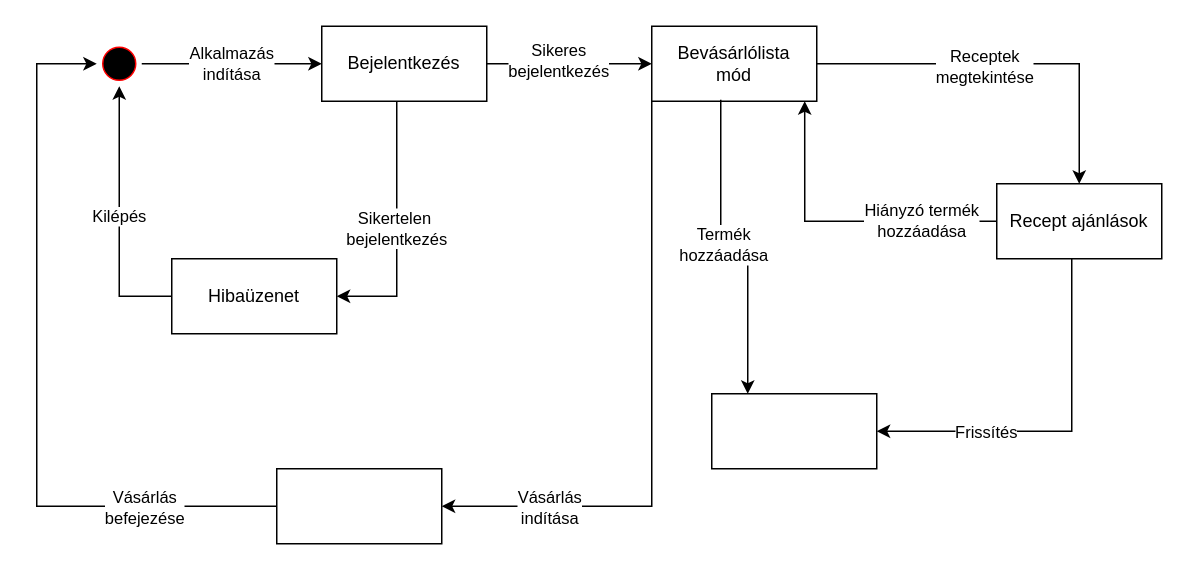
Image size: 1188x570. Some labels were removed from this diagram. The shapes that lost their labels are listed below. From the top down, each one's centre as x and y in pixels, then its label:
pixel 793 430: Készlet kezelése
pixel 358 505: Vásárlás végrehajtása
